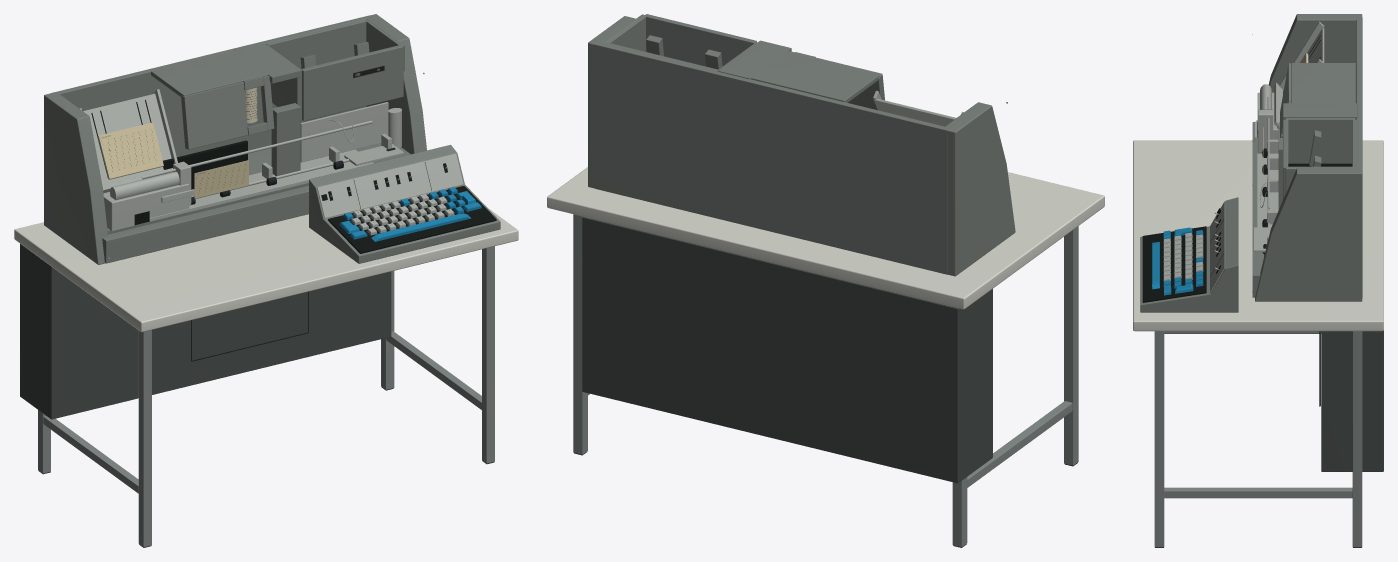
The picture shows the model from 3 angles, left to right: view 1: azimuth 30°, elevation 25°; view 2: azimuth 150°, elevation 25°; view 3: azimuth 270°, elevation 25°; orthographic projection. The views are drawn at different scales.
Parts seen in each view (by area): view 1: static 029 lower cabinet charcoal, static 029 warm pale laminate, static 029 olive gray enamel, static 029 olive gray enamel.002, static 029 leg brushed steel, static 029 olive gray enamel.001, static 029 brushed steel parts.002, static 029 brushed steel parts.005, static 029 olive gray enamel.003, static 029 brushed steel parts.006, static 029 brushed steel parts.003, static 029 black mechanical interior.005 (+5 smaller); view 2: static 029 lower cabinet charcoal, static 029 olive gray enamel, static 029 warm pale laminate, static 029 leg brushed steel, static 029 olive gray enamel.002, static 029 olive gray enamel.001, static 029 brushed steel parts.002; view 3: static 029 warm pale laminate, static 029 olive gray enamel, static 029 lower cabinet charcoal, static 029 leg brushed steel, static 029 olive gray enamel.002, static 029 olive gray enamel.003, static 029 olive gray enamel.001, static 029 black mechanical interior.005, static 029 brushed steel parts.003, static 029 brushed steel parts.002, static 029 gray alphanumeric keys, static 029 blue function keys (+2 smaller).
Part boxes in pixels (x1,y1,x2,y2): static 029 lower cabinet charcoal: [20, 244, 391, 419]; static 029 warm pale laminate: [14, 208, 518, 332]; static 029 olive gray enamel: [44, 14, 426, 264]; static 029 olive gray enamel.002: [234, 19, 404, 176]; static 029 leg brushed steel: [38, 246, 494, 547]; static 029 olive gray enamel.001: [151, 50, 274, 149]; static 029 brushed steel parts.002: [79, 89, 194, 231]; static 029 brushed steel parts.005: [272, 102, 403, 181]; static 029 olive gray enamel.003: [309, 145, 500, 263]; static 029 brushed steel parts.006: [317, 153, 463, 218]; static 029 brushed steel parts.003: [141, 120, 391, 222]; static 029 black mechanical interior.005: [321, 162, 496, 253]; static 029 lower cabinet charcoal: [582, 216, 992, 483]; static 029 olive gray enamel: [588, 16, 1015, 276]; static 029 warm pale laminate: [547, 167, 1104, 309]; static 029 leg brushed steel: [573, 214, 1078, 547]; static 029 olive gray enamel.002: [606, 14, 791, 79]; static 029 olive gray enamel.001: [751, 51, 884, 110]; static 029 brushed steel parts.002: [873, 90, 963, 126]; static 029 warm pale laminate: [1133, 140, 1383, 331]; static 029 olive gray enamel: [1252, 14, 1362, 301]; static 029 lower cabinet charcoal: [1319, 330, 1383, 471]; static 029 leg brushed steel: [1154, 331, 1362, 547]; static 029 olive gray enamel.002: [1278, 103, 1357, 209]; static 029 olive gray enamel.003: [1140, 197, 1238, 312]; static 029 olive gray enamel.001: [1280, 63, 1355, 137]; static 029 black mechanical interior.005: [1142, 208, 1223, 302]; static 029 brushed steel parts.003: [1257, 96, 1278, 243]; static 029 brushed steel parts.002: [1254, 21, 1324, 153]; static 029 gray alphanumeric keys: [1163, 232, 1203, 281]; static 029 blue function keys: [1152, 227, 1203, 295].
Size of the model in its own units: 1.3 by 1.24 by 0.76.
Materials: 13 (3 with a texture image).
